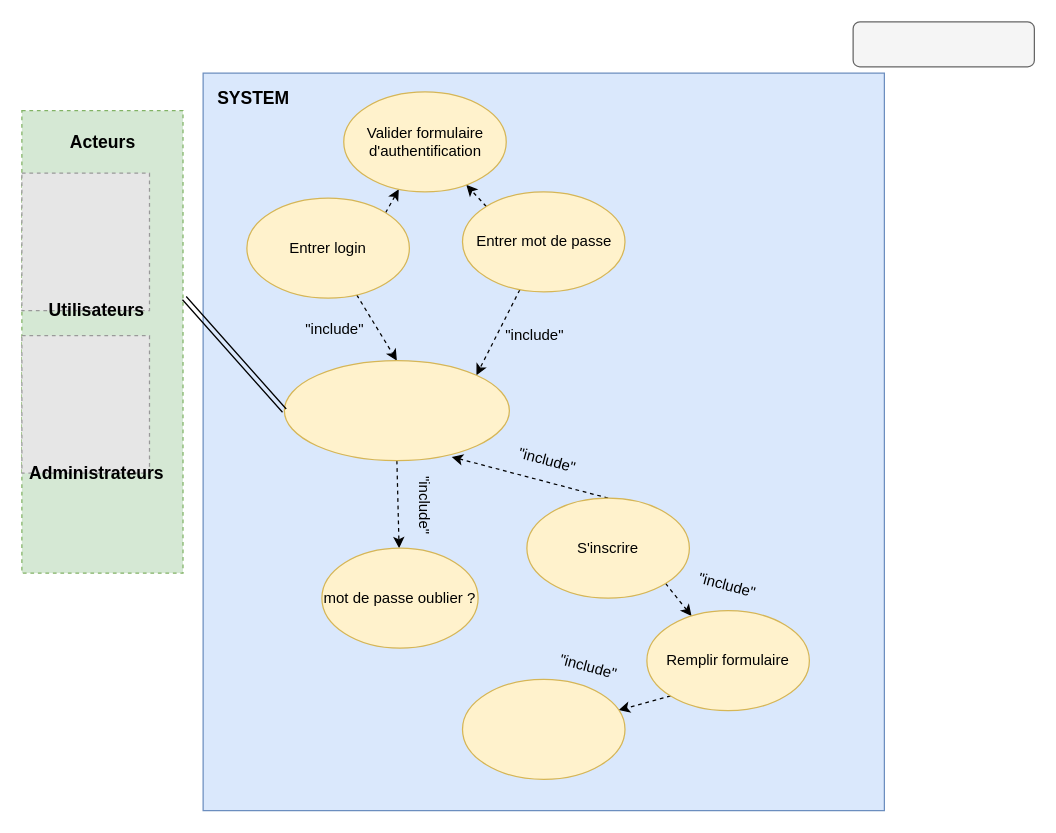
Some shapes in this 1056 by 833 pixel diagram are drawn without their labels. Grey dashed boxes stand in for pictures. Each missing label, with the centre of its shape:
"AUTHENTIFICATION" belongs at (943,44).
"S'authentifier" belongs at (396,410).
"Valider formulaire d'inscription" belongs at (543,728).
